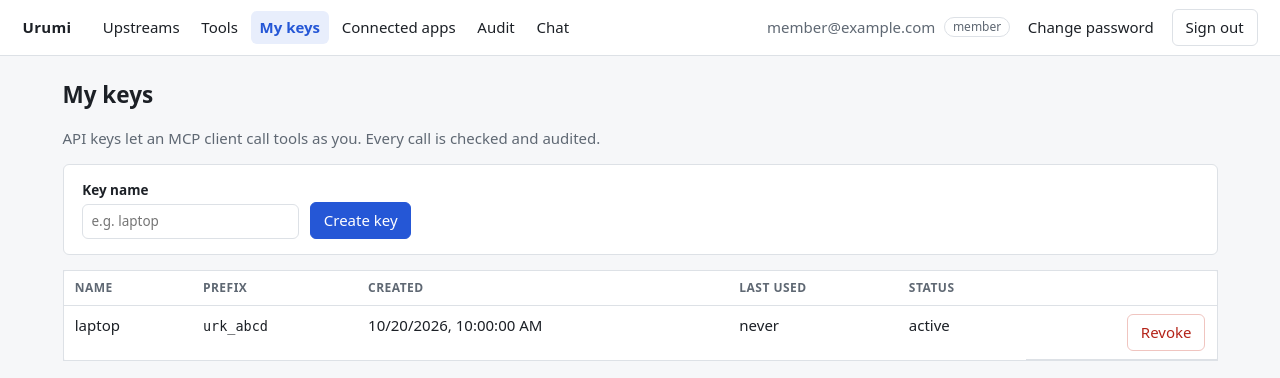
it: my keys › revokes after confirmation
Click the button with aria-label "Revoke laptop".
click(1166, 333)  # box [1127, 314, 1205, 351]
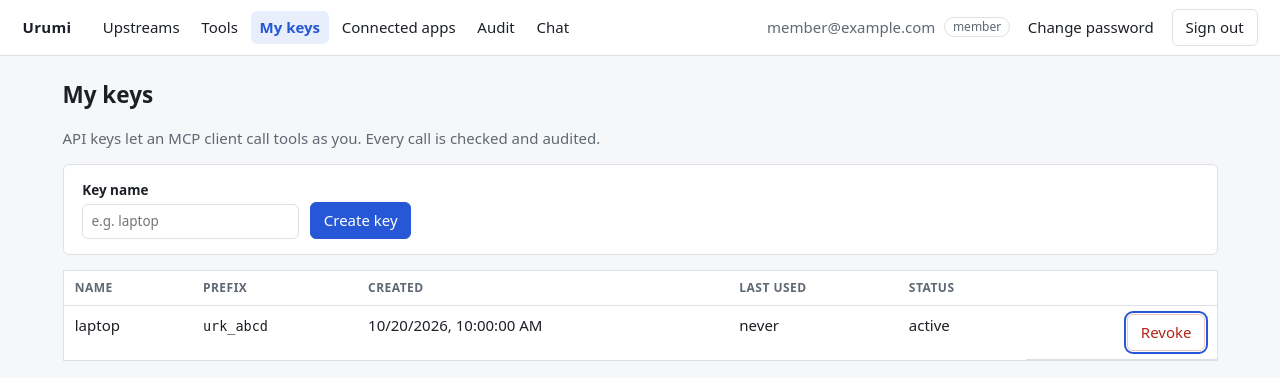
Click the button with aria-label "Revoke laptop".
click(1166, 333)  # box [1127, 314, 1205, 351]
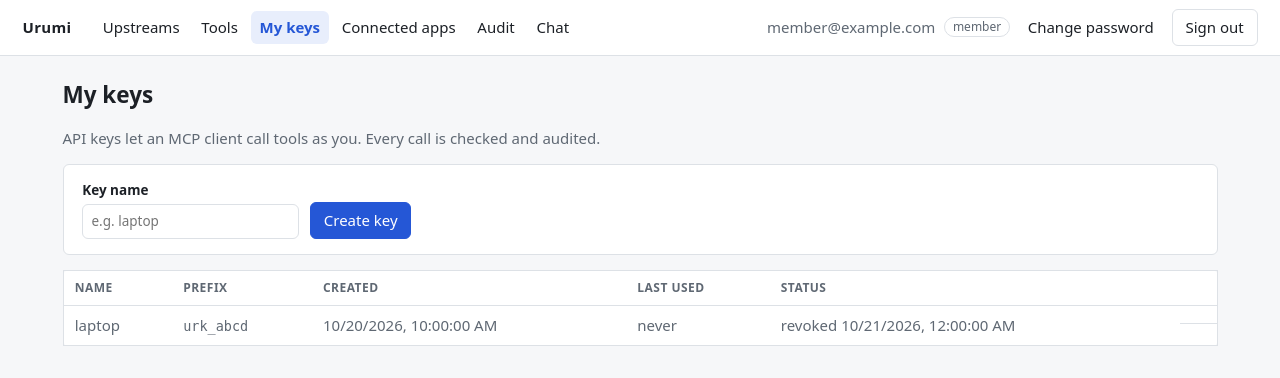
Expected: the text "revoked 10/21/2026, 12:00:00 AM" is shown, [770, 306, 1180, 346]
